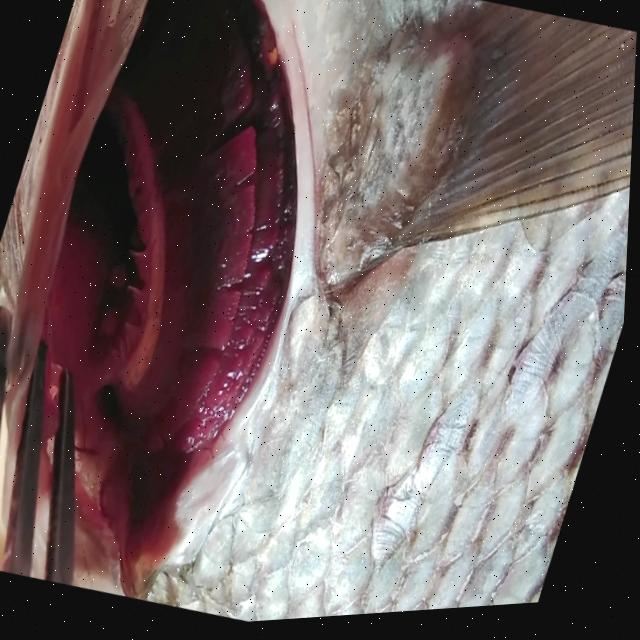Fresh: (0, 0, 384, 570)
